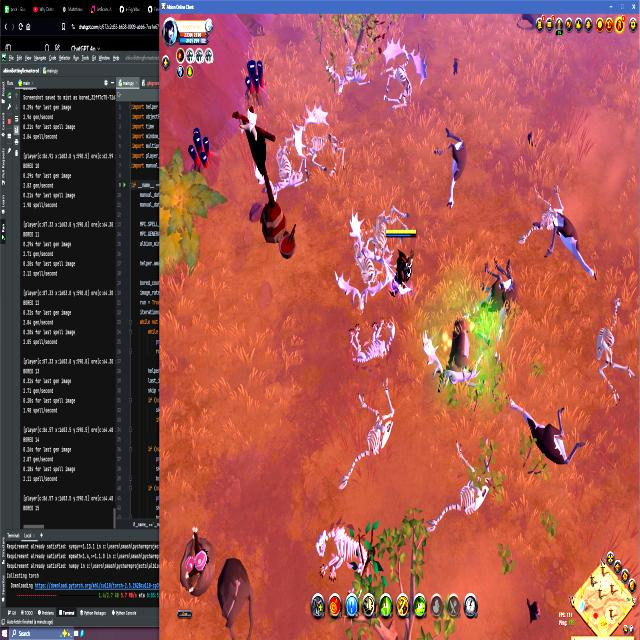mob: (422, 304, 486, 402), (530, 201, 600, 289), (508, 394, 588, 467), (472, 257, 519, 324), (434, 122, 469, 210)
player: (240, 55, 274, 112), (188, 123, 215, 169)
red: (384, 226, 416, 298)
